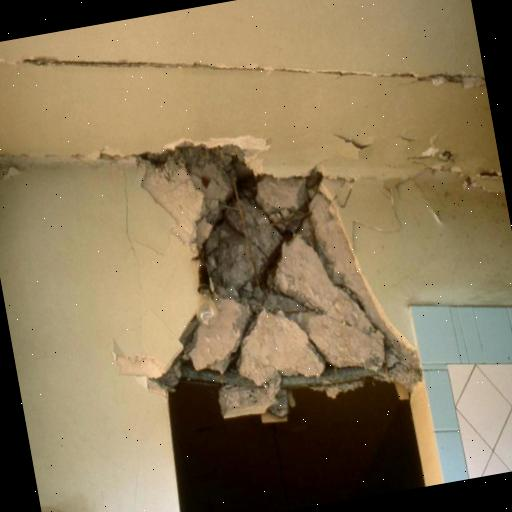spalling: (140, 131, 423, 381), (2, 43, 483, 105)
